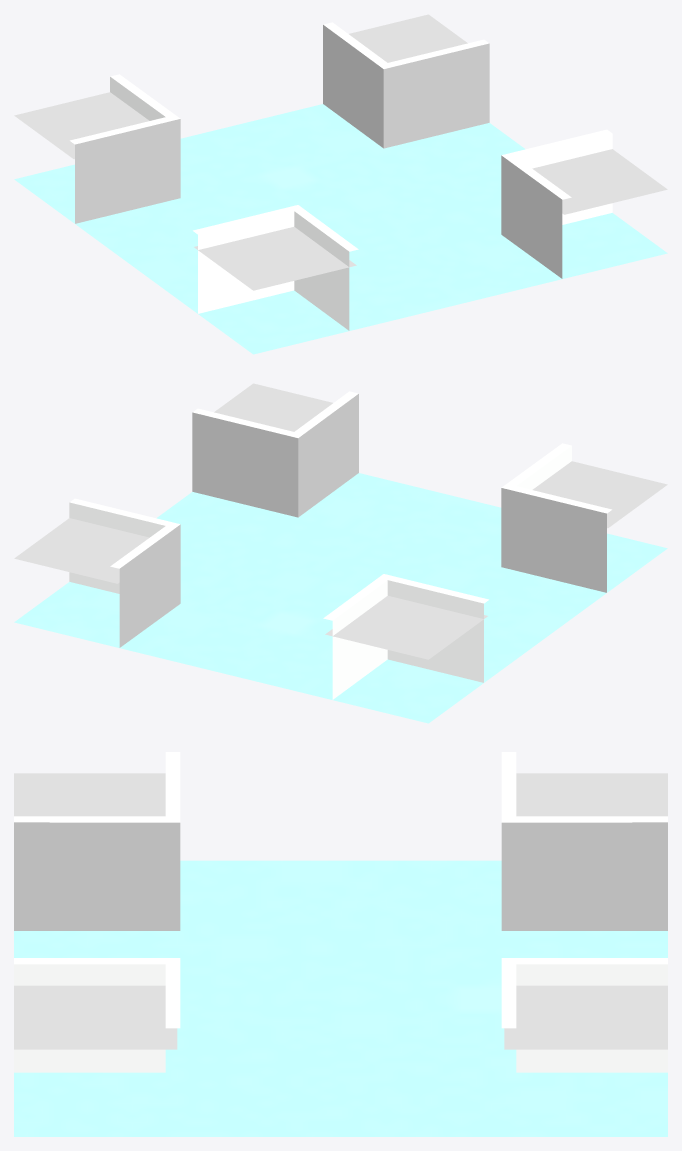
The model's file is road_tile_river_1x1_3.glb.
3 renders of one model, top to bottom at view 1: azimuth 30°, elevation 25°; view 2: azimuth 150°, elevation 25°; view 3: azimuth 270°, elevation 25°, orthographic. The views are drawn at different scales.
Parts seen in each view (by area): view 1: road_tile_river_1x1_3(Clone); view 2: road_tile_river_1x1_3(Clone); view 3: road_tile_river_1x1_3(Clone).
Part boxes in pixels (left/top/right/bottom): road_tile_river_1x1_3(Clone): left=14, top=14, right=667, bottom=354; road_tile_river_1x1_3(Clone): left=14, top=383, right=667, bottom=723; road_tile_river_1x1_3(Clone): left=14, top=752, right=667, bottom=1136.
Bounding box in the file's own units: 8 × 1.46 × 8.
Materials: 1 (1 with a texture image).
